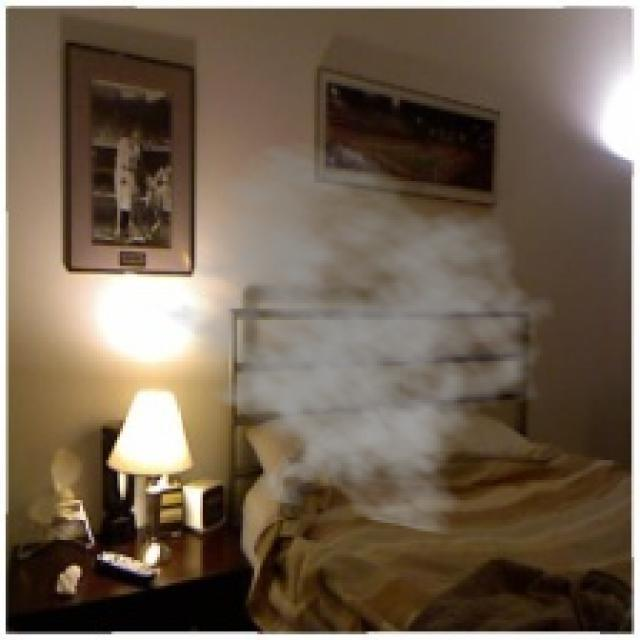Smoke: (148, 137, 560, 537)
